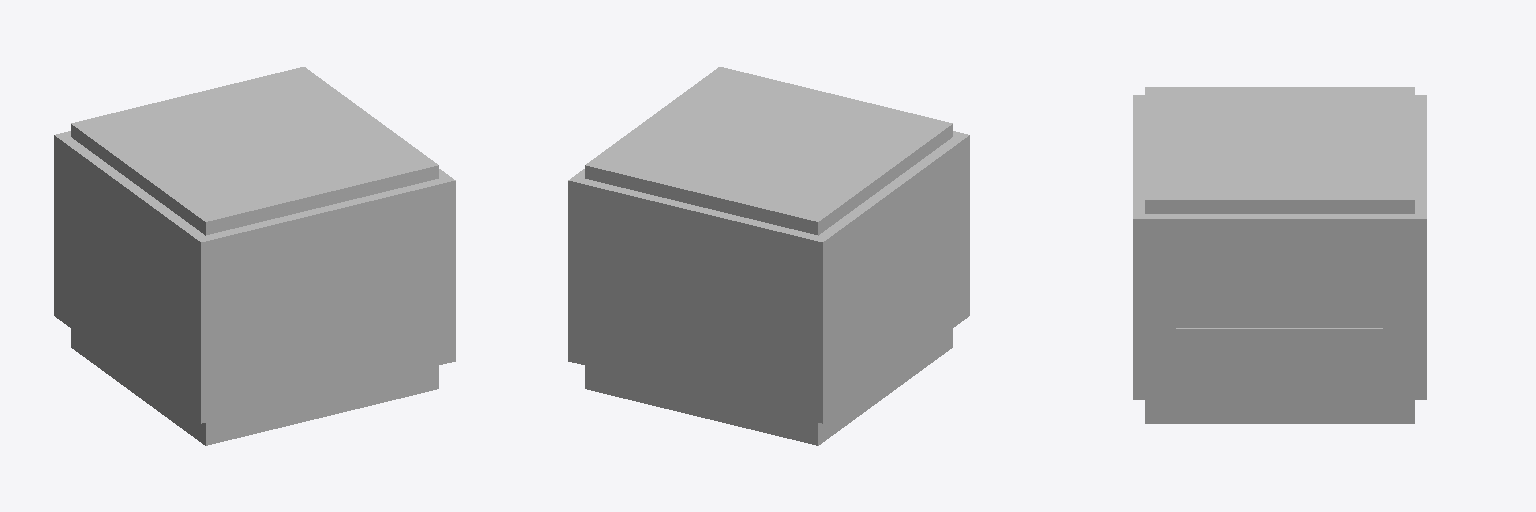
Rendered from Shop.obj.
3 renders of one model, left to right at view 1: azimuth 30°, elevation 25°; view 2: azimuth 150°, elevation 25°; view 3: azimuth 270°, elevation 25°, orthographic.
Visible parts, largest first — view 1: Cube, Cube.001; view 2: Cube, Cube.001; view 3: Cube, Cube.001, Cube.002.
Boxes of the visible parts, x1,y1,x2,y2 form: Cube: [54, 131, 455, 423]; Cube.001: [71, 67, 438, 445]; Cube: [568, 131, 969, 423]; Cube.001: [585, 67, 952, 445]; Cube: [1133, 95, 1426, 399]; Cube.001: [1145, 87, 1414, 423]; Cube.002: [1176, 328, 1382, 385].
Size of the model in its own units: 21.25 by 17.68 by 21.06.